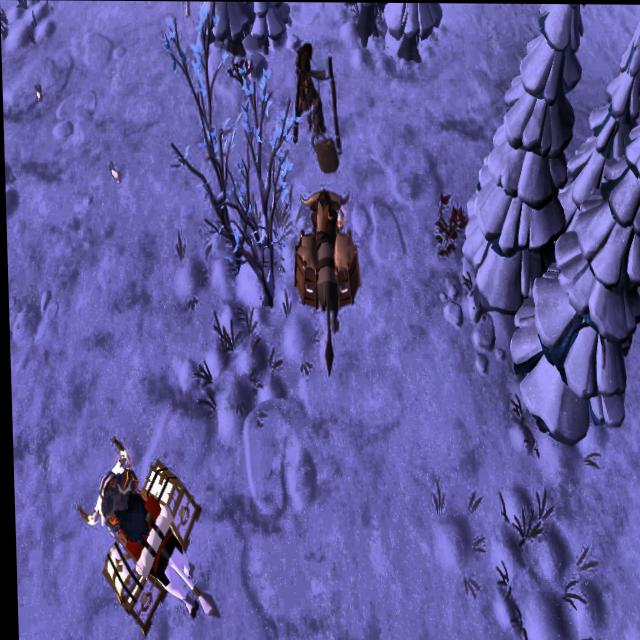enemy_factionKeeper: (295, 39, 327, 129)
